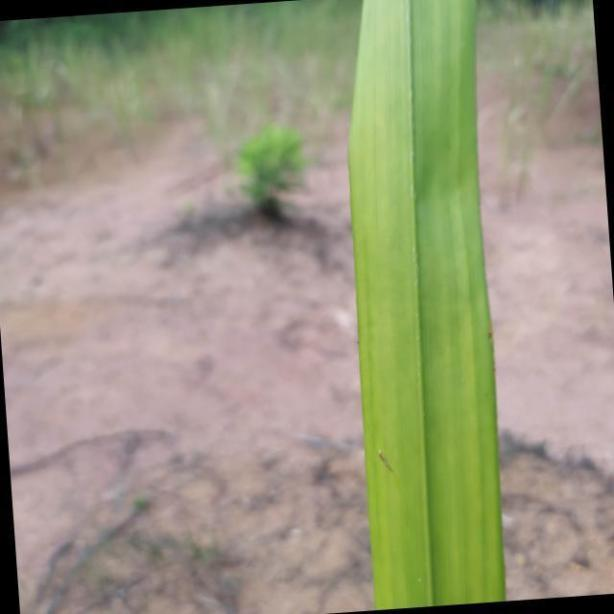nitrogen: (342, 0, 509, 614)
